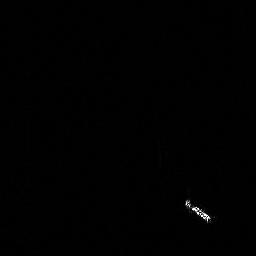ship: (180, 195, 217, 225)
